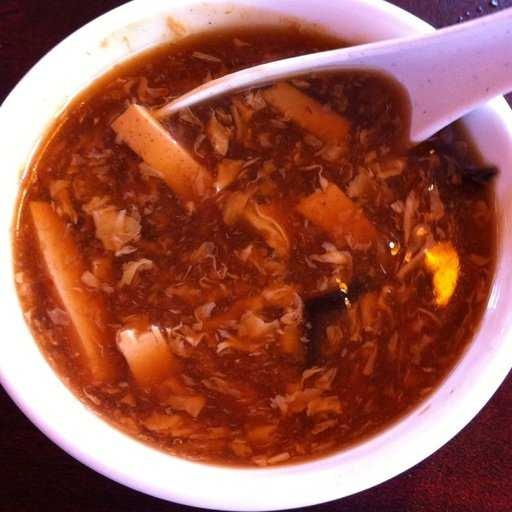soup: (25, 20, 485, 470)
